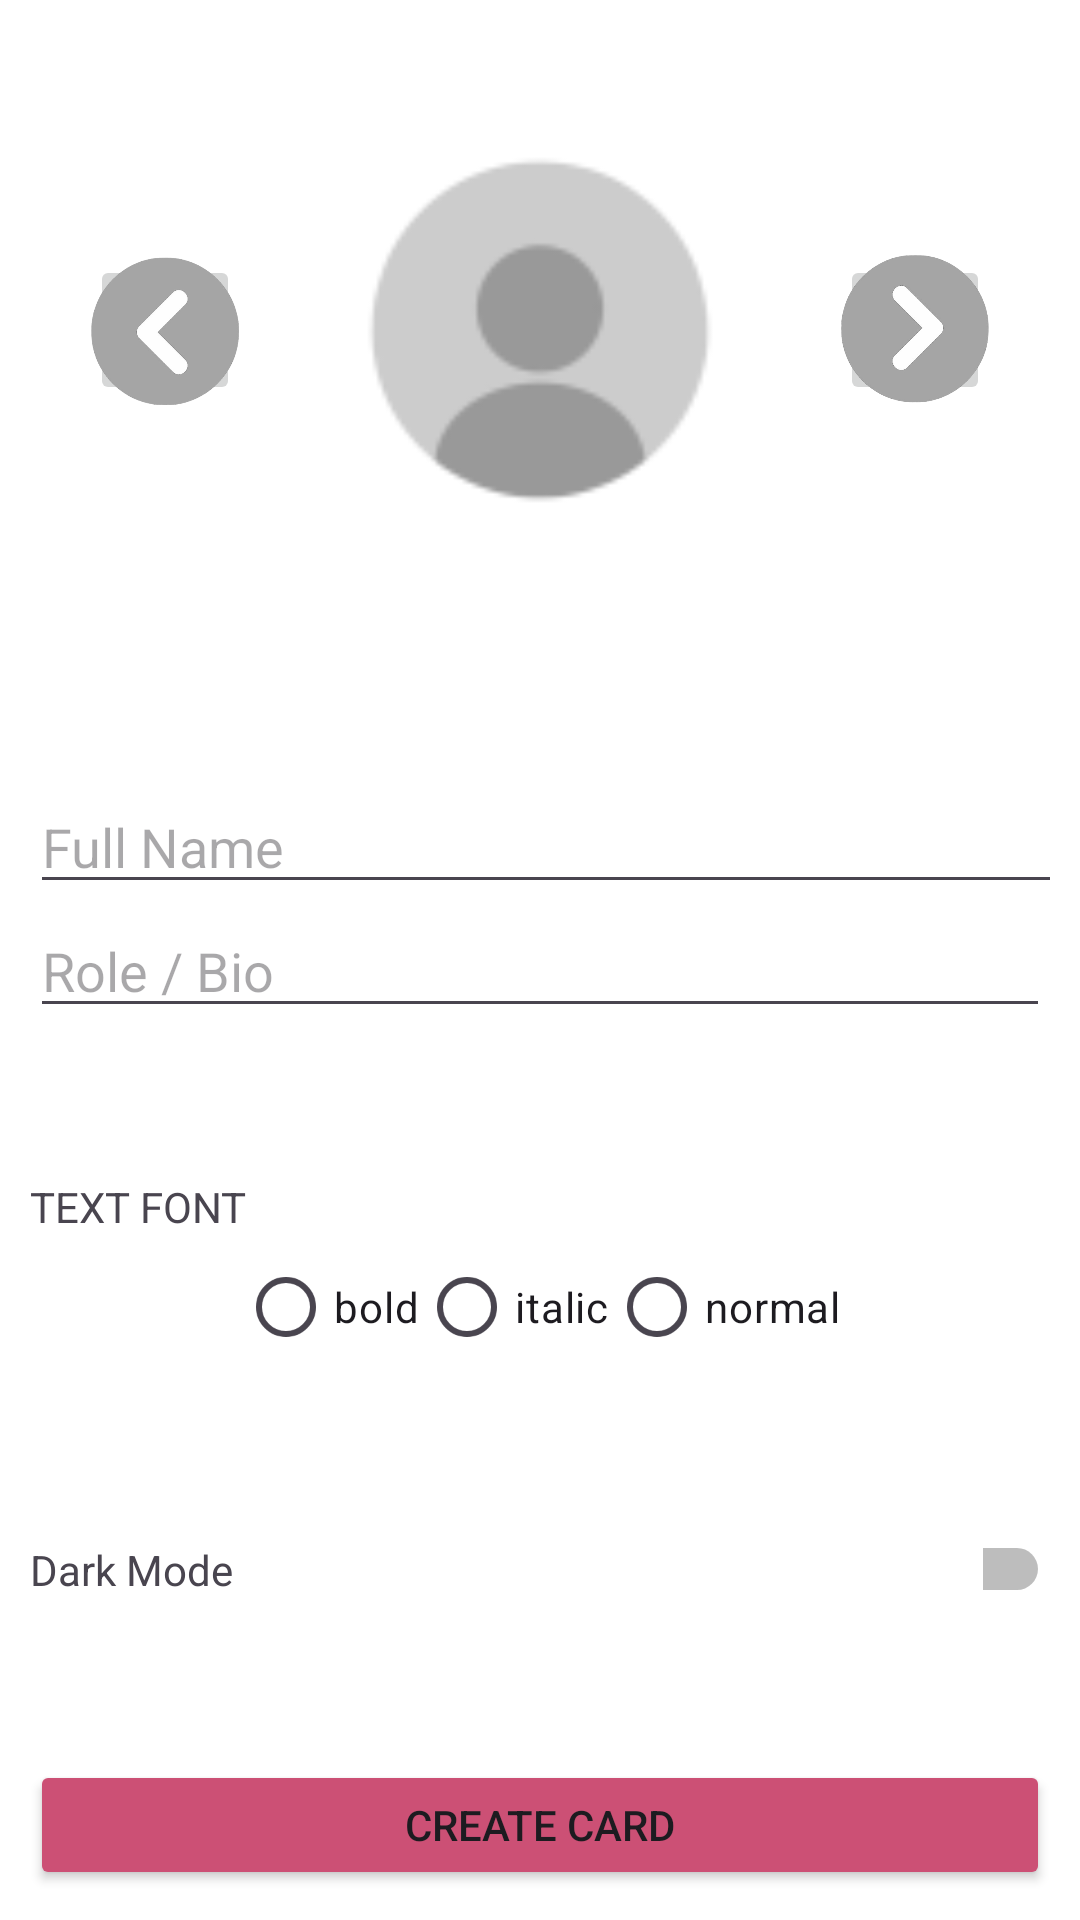

Screen size 1080 × 1920. Icon name, then its center in pixels as (x=x, y=y):
newpfp: (x=540, y=330)
